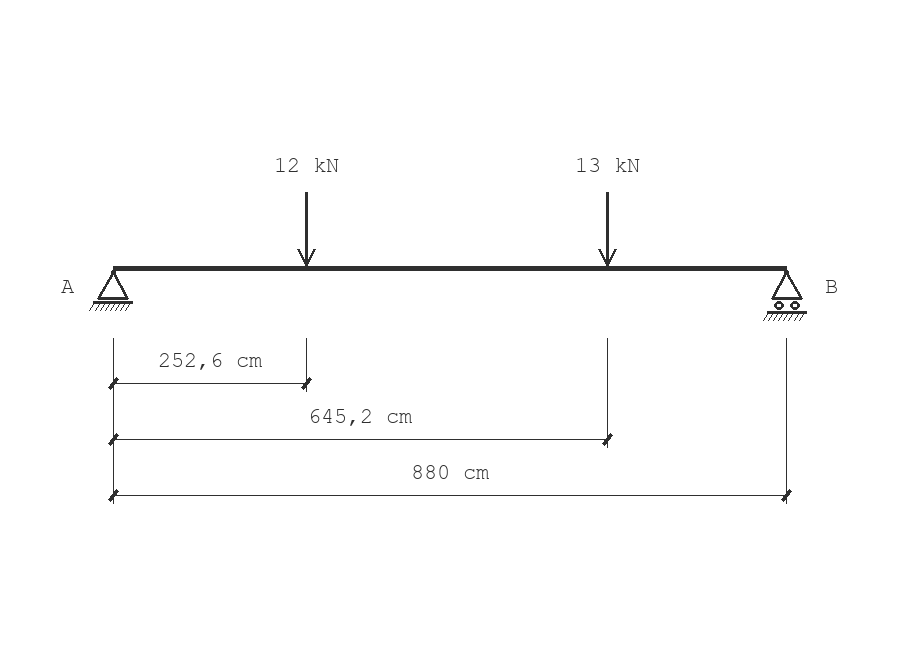pin_support: (89, 270, 133, 311)
point_load: (297, 192, 316, 266), (598, 192, 617, 266)
roller_support: (763, 270, 807, 321)
